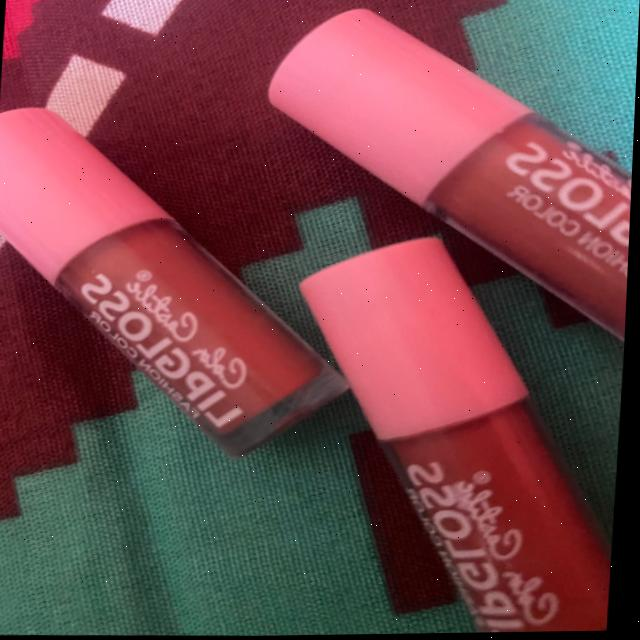lip gloss: (241, 0, 640, 383), (270, 223, 632, 637), (0, 86, 376, 476)
